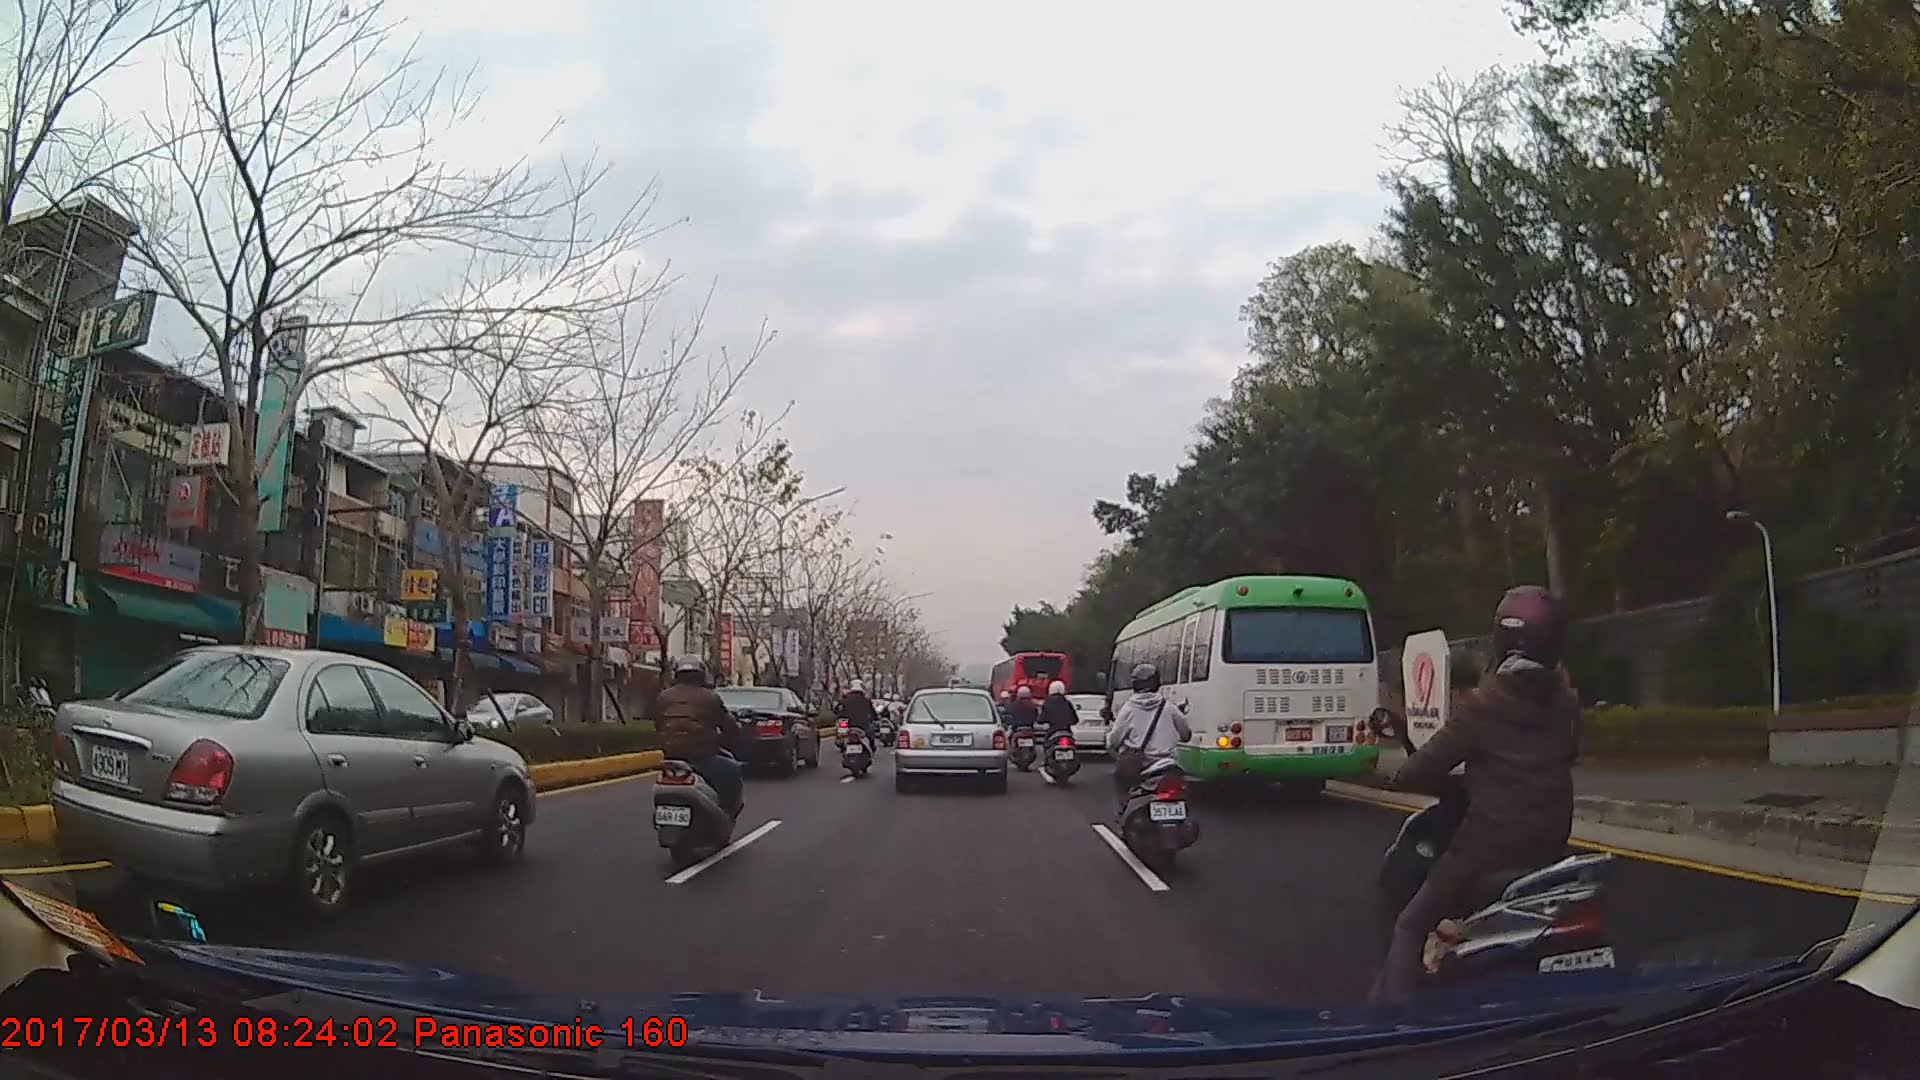rider: (1371, 579, 1622, 1036), (649, 651, 743, 873), (1112, 662, 1201, 874), (1038, 680, 1082, 785), (838, 678, 881, 777), (1008, 682, 1043, 772), (876, 692, 902, 746)
vehicle: (50, 641, 535, 910), (1105, 572, 1378, 800), (686, 684, 820, 774), (894, 687, 1009, 791), (992, 645, 1071, 738), (444, 689, 556, 750)
